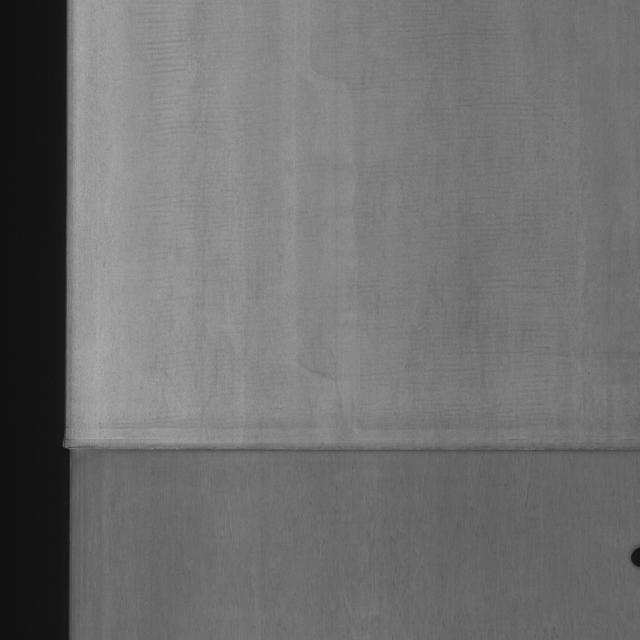crease: (58, 423, 640, 479)
crescent_gap: (630, 538, 640, 572)
